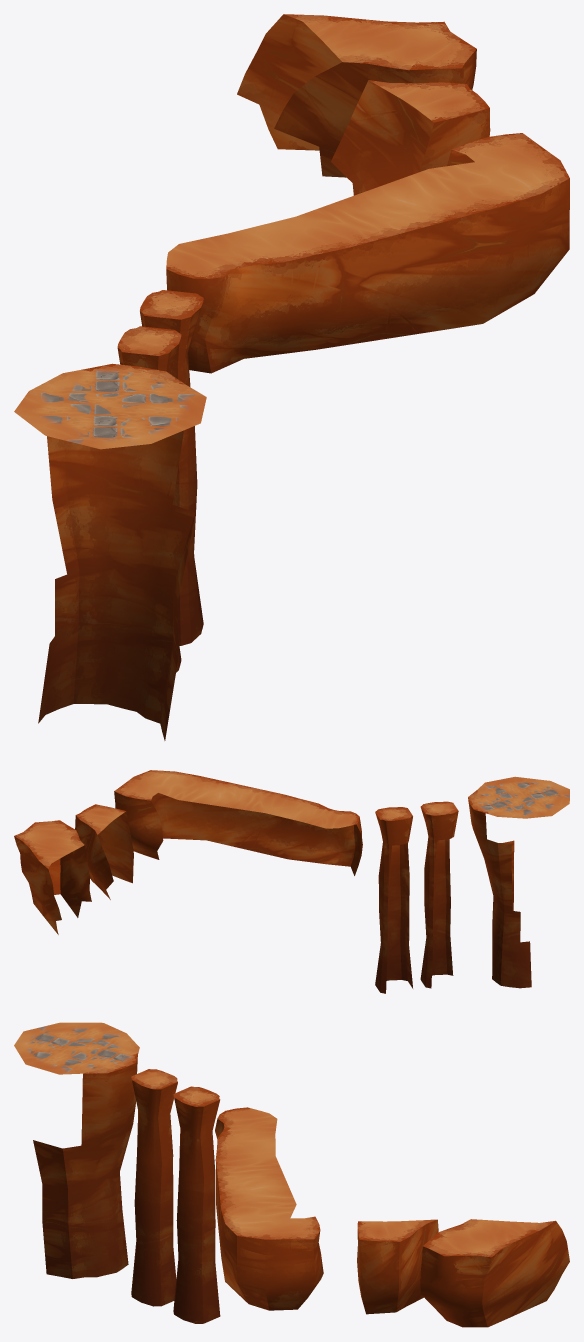
The model's file is path_secret.fbx.
3 renders of one model, top to bottom at view 1: azimuth 30°, elevation 25°; view 2: azimuth 150°, elevation 25°; view 3: azimuth 270°, elevation 25°, orthographic. The views are drawn at different scales.
Parts seen in each view (by area): view 1: Plane247; view 2: Plane247; view 3: Plane247.
Part boxes in pixels (x1=…): Plane247: x1=14, y1=14, x2=569, y2=740; Plane247: x1=14, y1=770, x2=569, y2=993; Plane247: x1=14, y1=1022, x2=569, y2=1327.
Size of the model in its own units: 60.57 by 26.1 by 60.59.
1 material, 1 textured.
